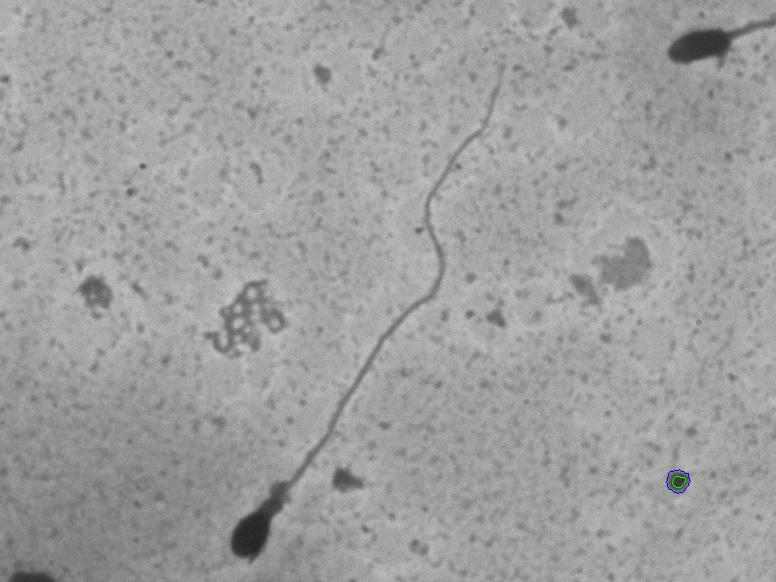Abnormal: (189, 57, 521, 563)
